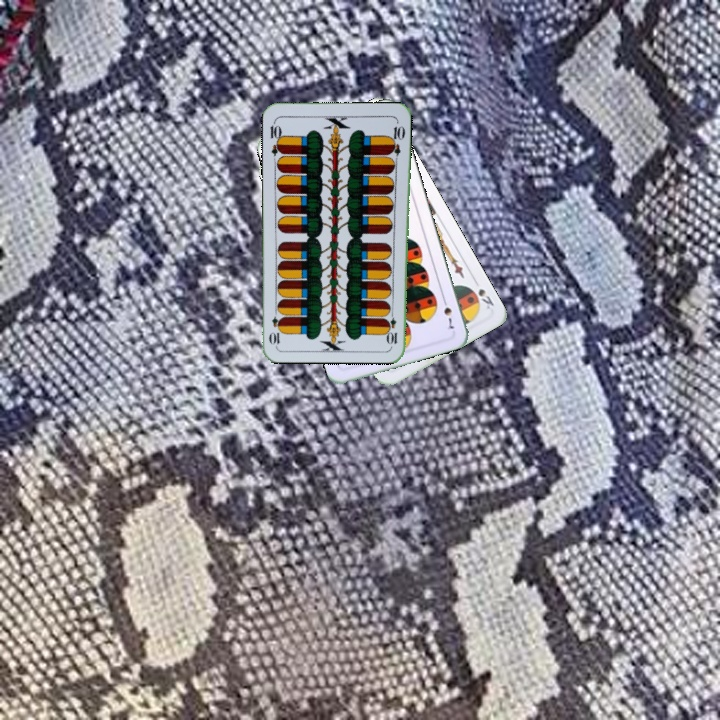E10: (266, 117, 285, 158), (386, 306, 400, 347)
S7: (439, 294, 456, 333)
SK: (465, 281, 497, 312)
